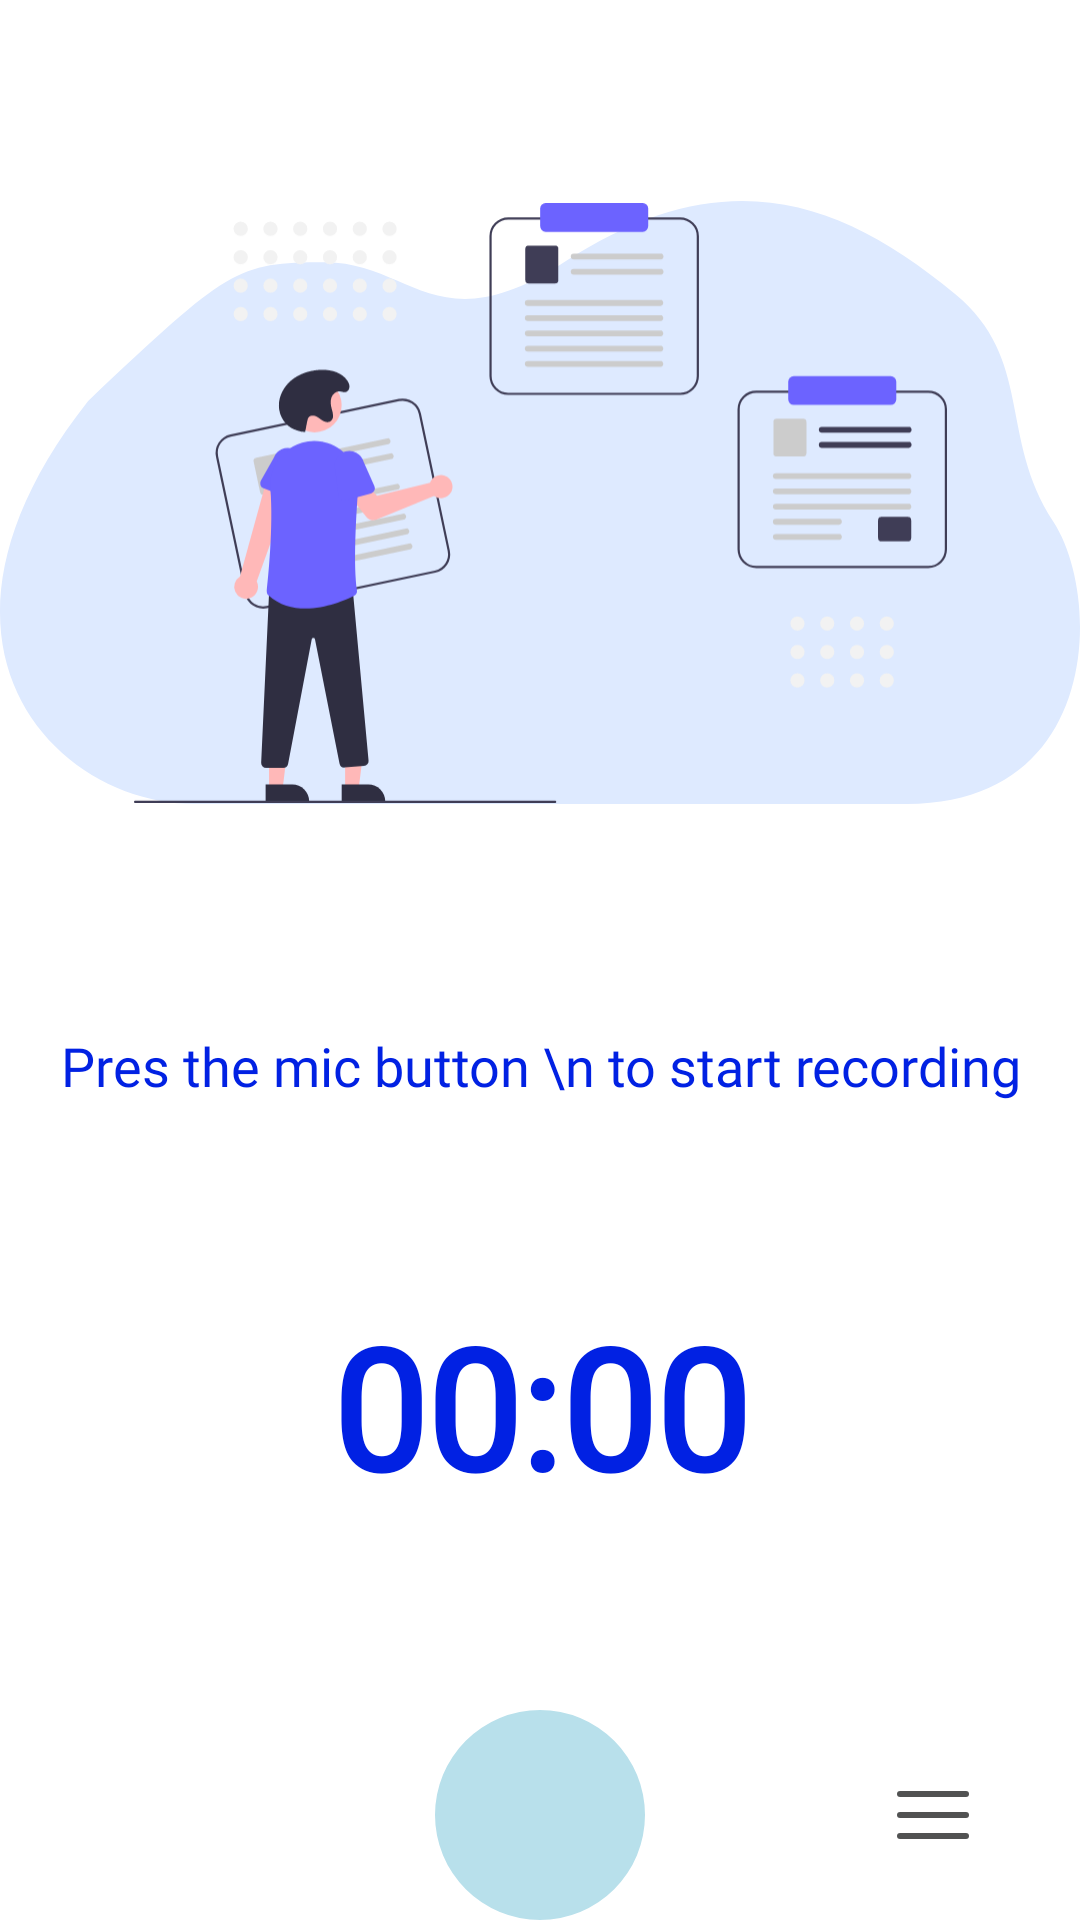

Icon click points for this 1080 × 1920 phone screenshot, format point (x, y):
menu: point (933, 1815)
